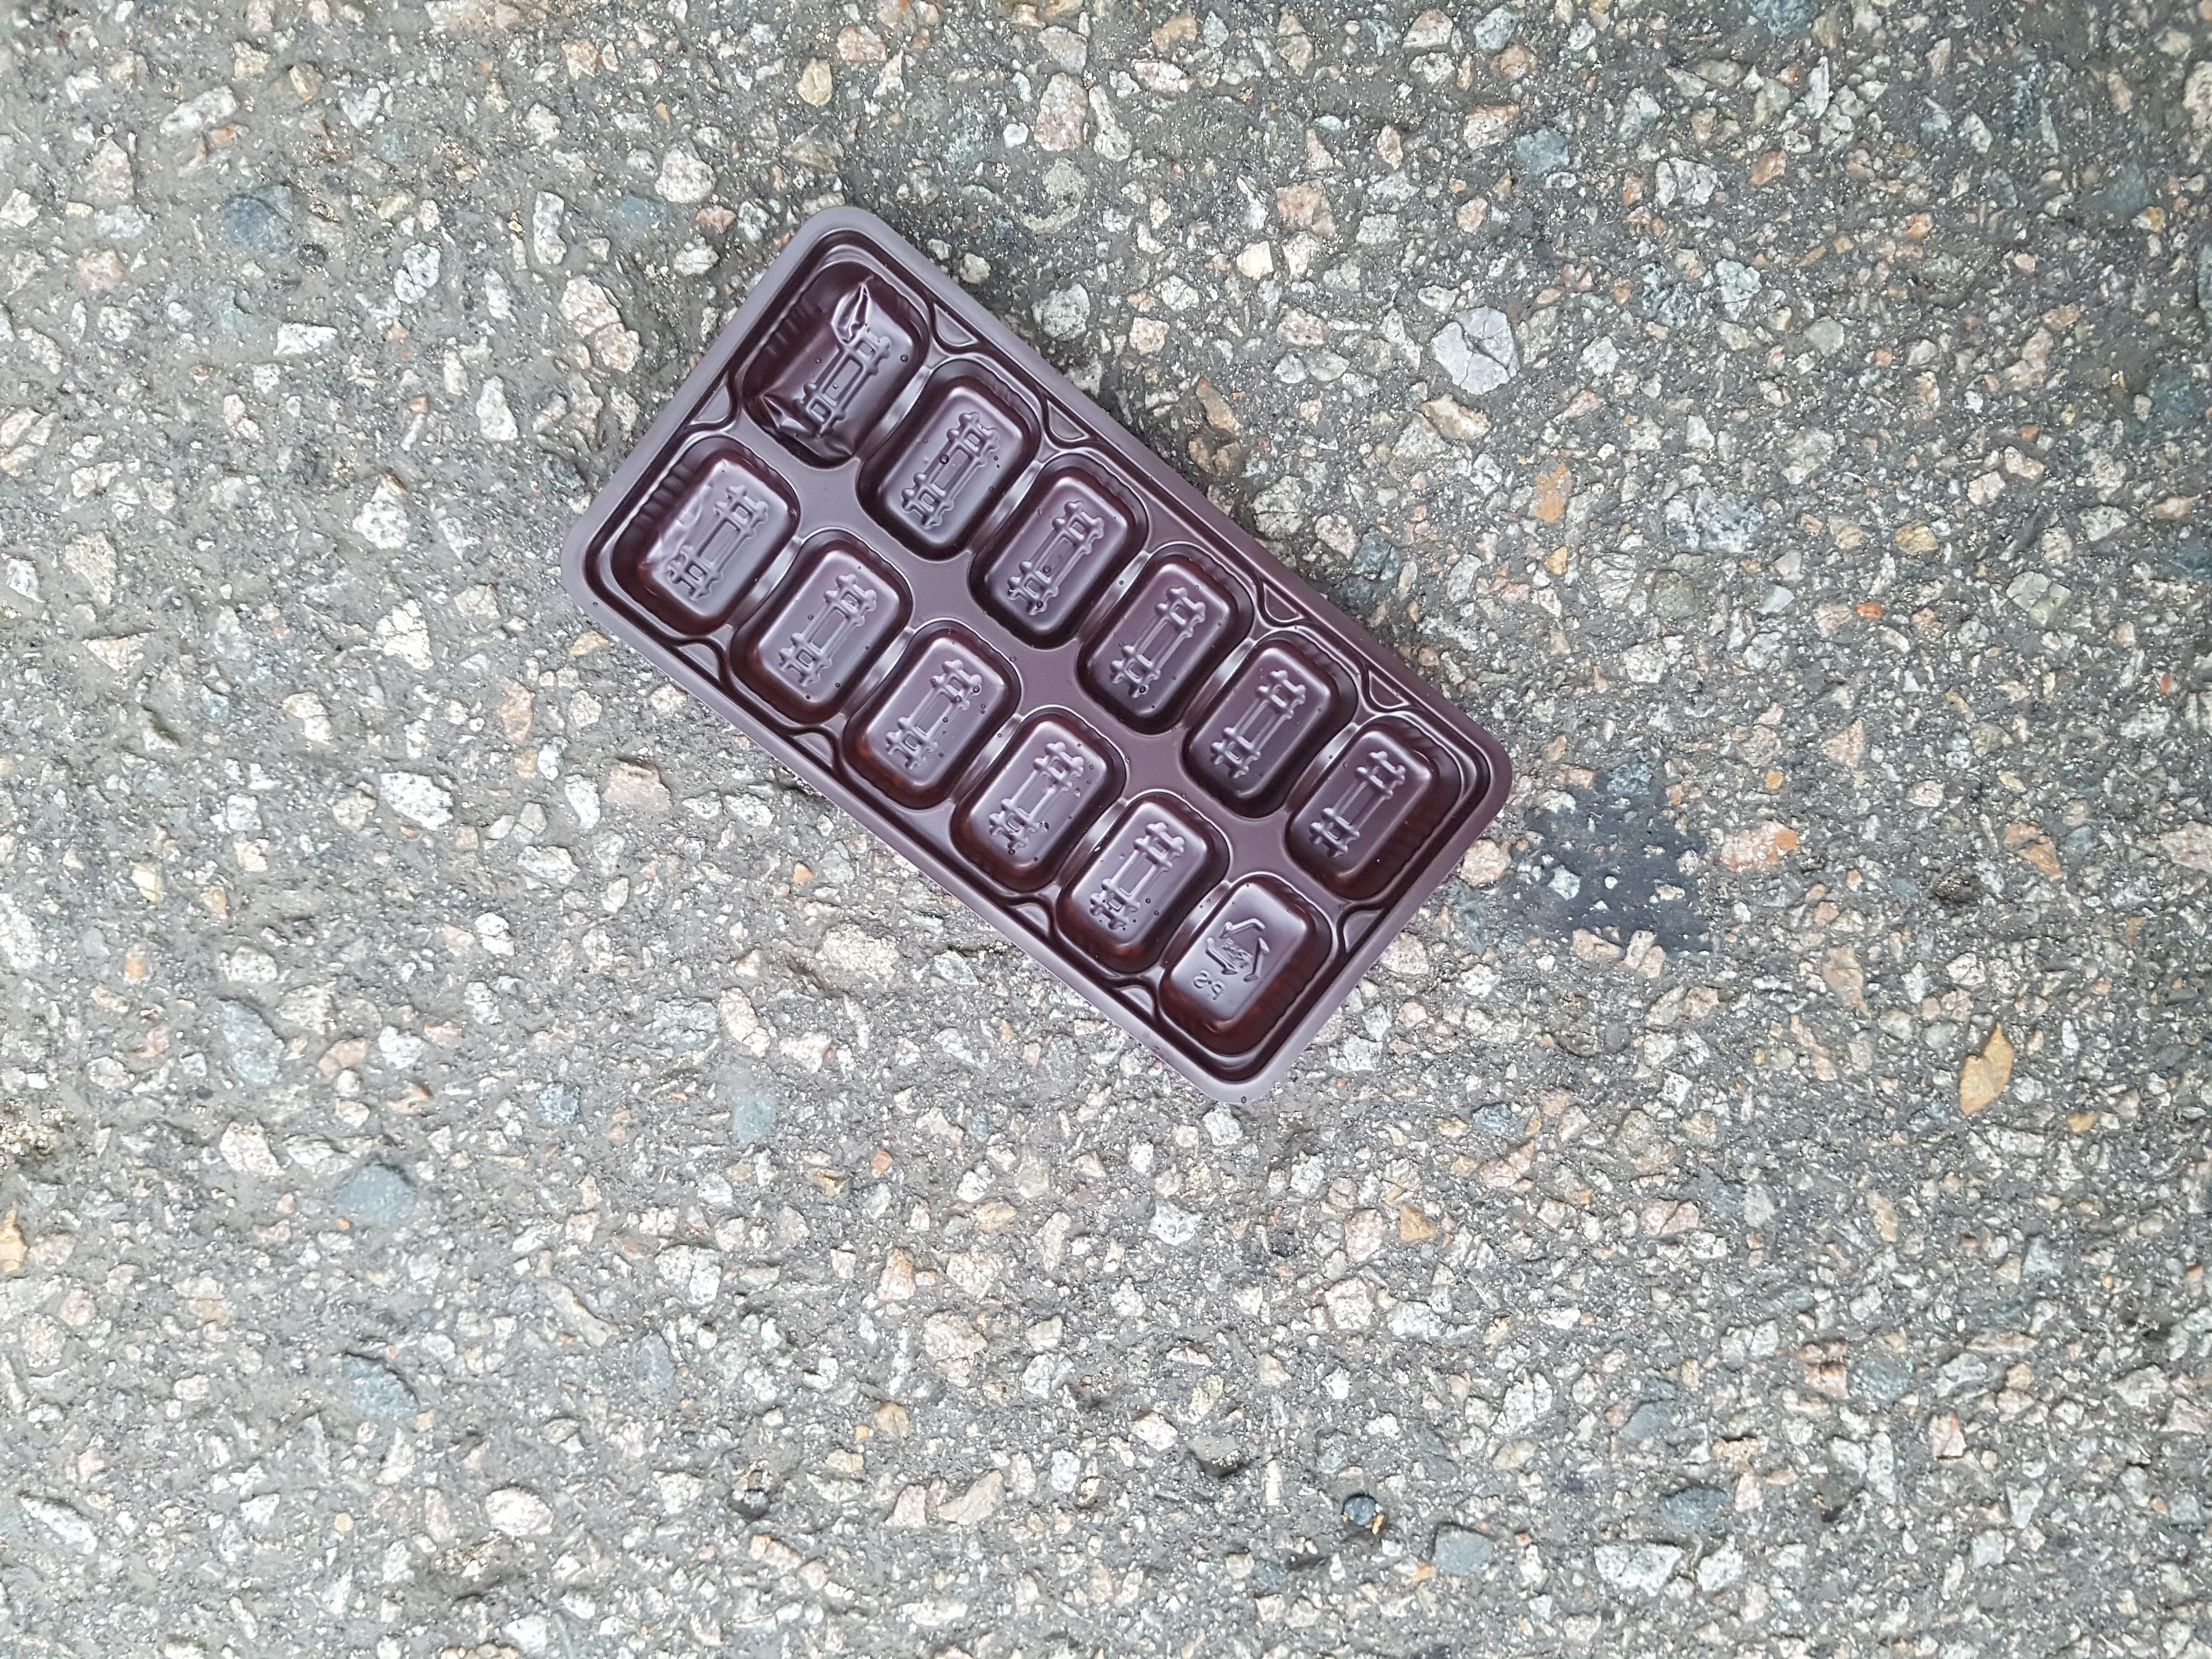bottle: (678, 356, 1998, 1188)
